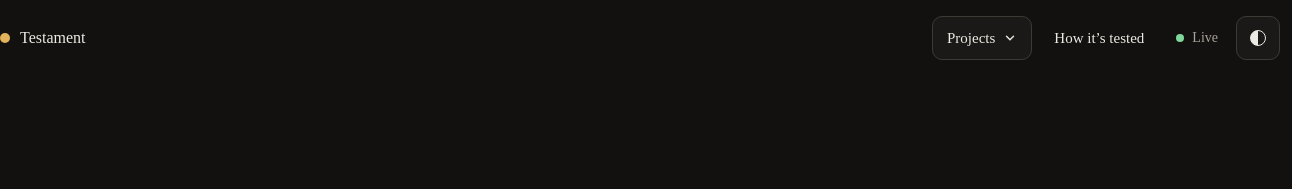
Test: SiteHeader › opens the project menu in place (menu open state)
Click the button "Projects".
click(982, 38)  # box [932, 16, 1032, 60]
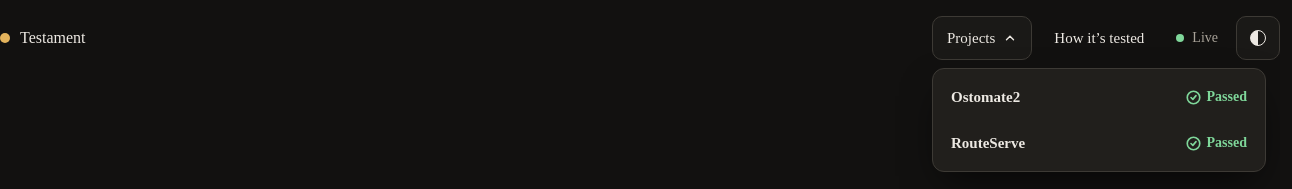
Check: the button "Projects" is expanded, box [932, 16, 1032, 60]
